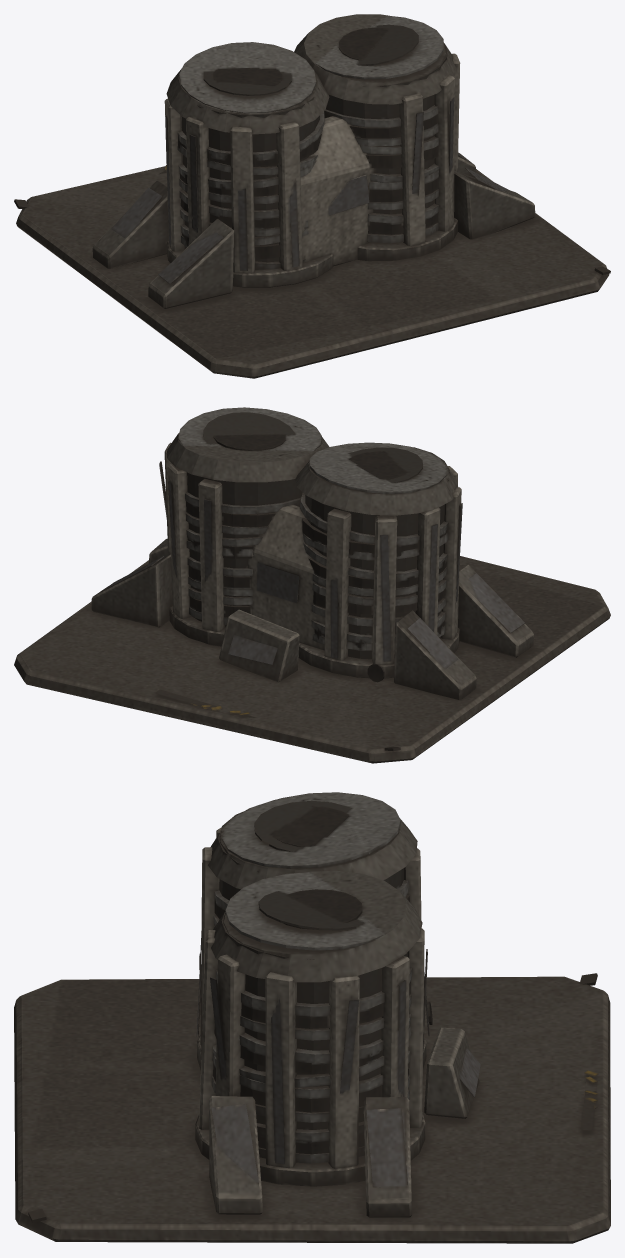
Rendered from ord_advcapacitor_wreck.fbx.
The picture shows the model from 3 angles, top to bottom: view 1: azimuth 30°, elevation 25°; view 2: azimuth 150°, elevation 25°; view 3: azimuth 270°, elevation 25°; orthographic projection. The views are drawn at different scales.
Parts seen in each view (by area): view 1: base_bar, cells_bar; view 2: base_bar, cells_bar; view 3: base_bar, cells_bar.
Part boxes in pixels (left/top/right/bottom): base_bar: left=14, top=14, right=610, bottom=378; cells_bar: left=177, top=105, right=439, bottom=269; base_bar: left=14, top=407, right=610, bottom=763; cells_bar: left=185, top=492, right=448, bottom=651; base_bar: left=14, top=792, right=610, bottom=1243; cells_bar: left=211, top=880, right=412, bottom=1163.
Size of the model in its own units: 2368 by 1315 by 2356.
2 materials, 2 textured.
